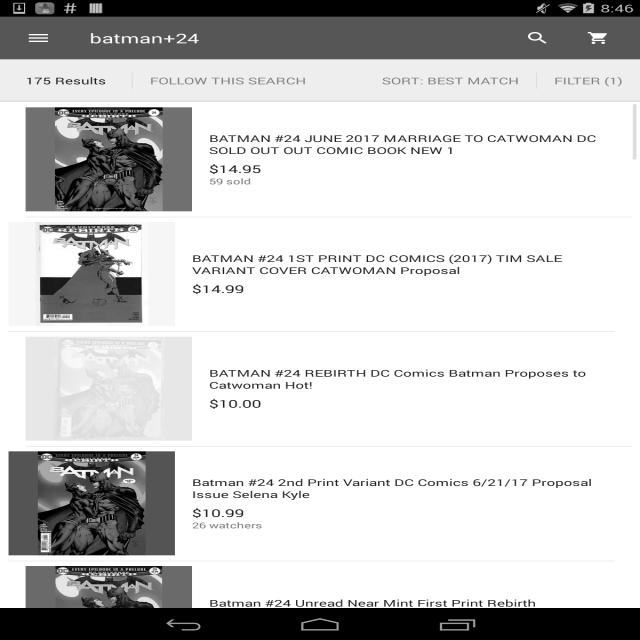Button: (133, 59, 364, 102), (364, 59, 536, 102), (537, 59, 640, 102)
ImageButton: (9, 17, 68, 59)
ImageView: (26, 336, 192, 441), (8, 220, 175, 324), (8, 452, 175, 556), (26, 108, 192, 212), (26, 564, 192, 640), (585, 30, 610, 46)
TextView: (209, 132, 632, 158), (192, 250, 614, 276), (192, 476, 614, 502), (209, 367, 632, 392), (209, 594, 632, 608), (0, 59, 132, 102), (90, 29, 199, 47), (512, 22, 563, 54), (192, 520, 262, 530), (209, 163, 261, 176), (192, 281, 244, 294), (192, 507, 244, 520), (209, 396, 261, 408), (209, 176, 251, 187)
